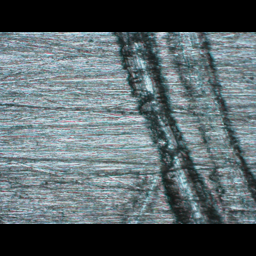d: (112, 32, 255, 221)
